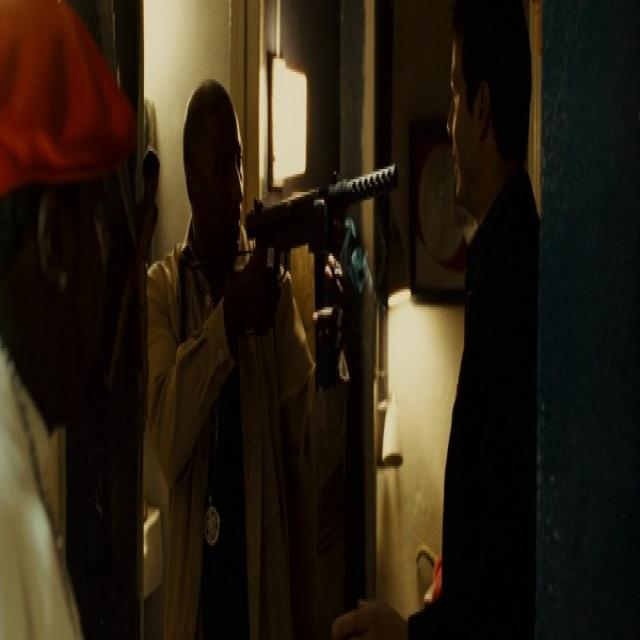rifle: (250, 153, 402, 291)
